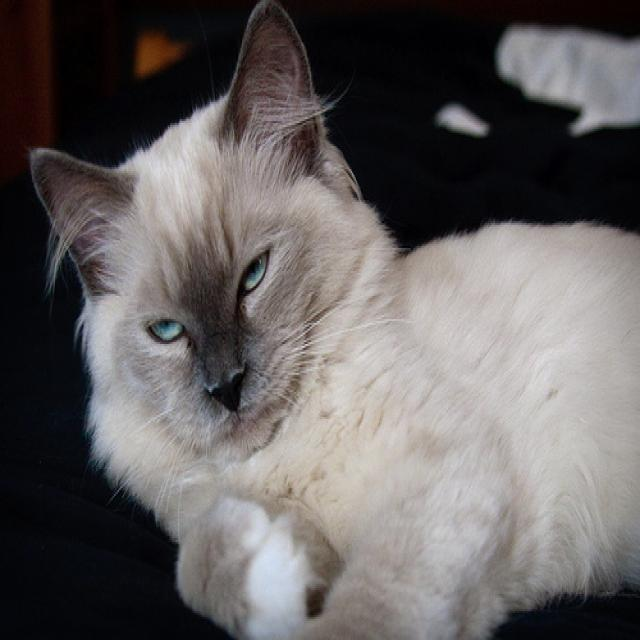Ragdoll: (28, 1, 371, 471)
